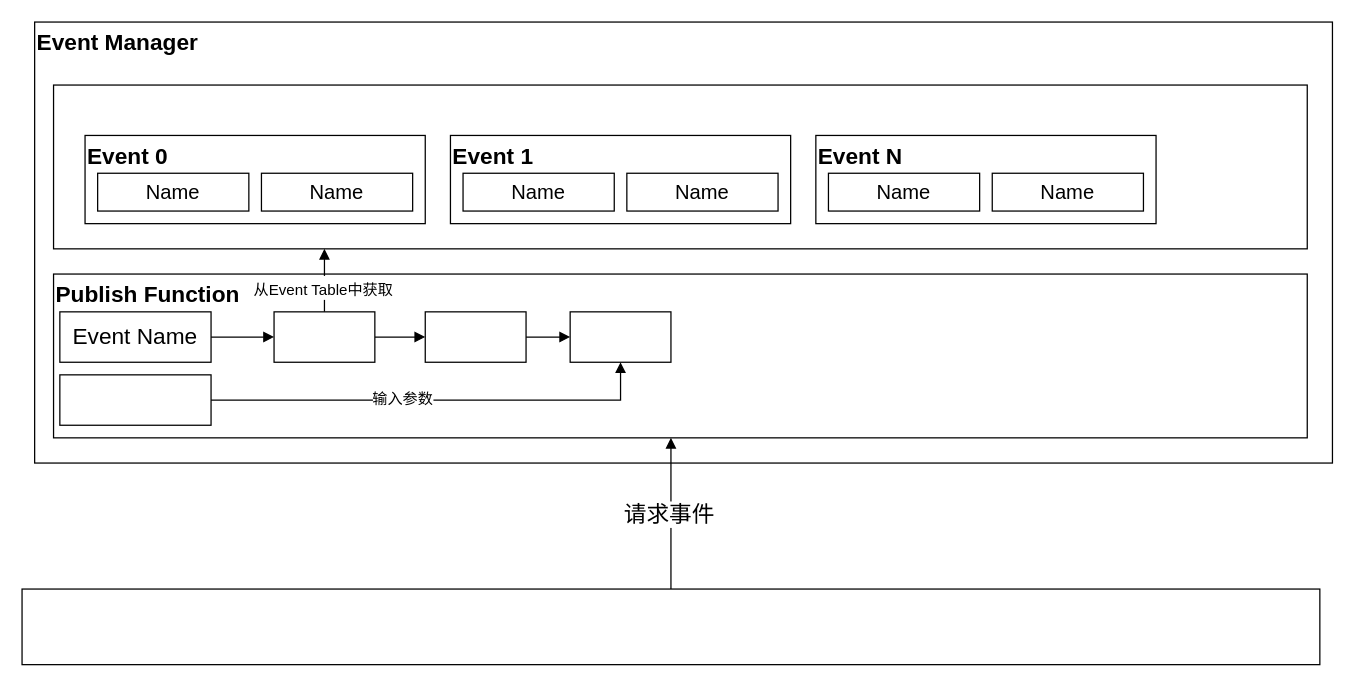
Some shapes in this 1355 by 687 pixel diagram are drawn without their labels. Here are the shapes that lost their labels. From the top down, the box of each, then its label:
(52, 84, 1307, 249): Event Table
(273, 311, 375, 362): Event Get
(424, 311, 526, 362): Event
(569, 311, 671, 362): Event Execute
(59, 374, 211, 425): Args
(21, 588, 1320, 665): 外部
